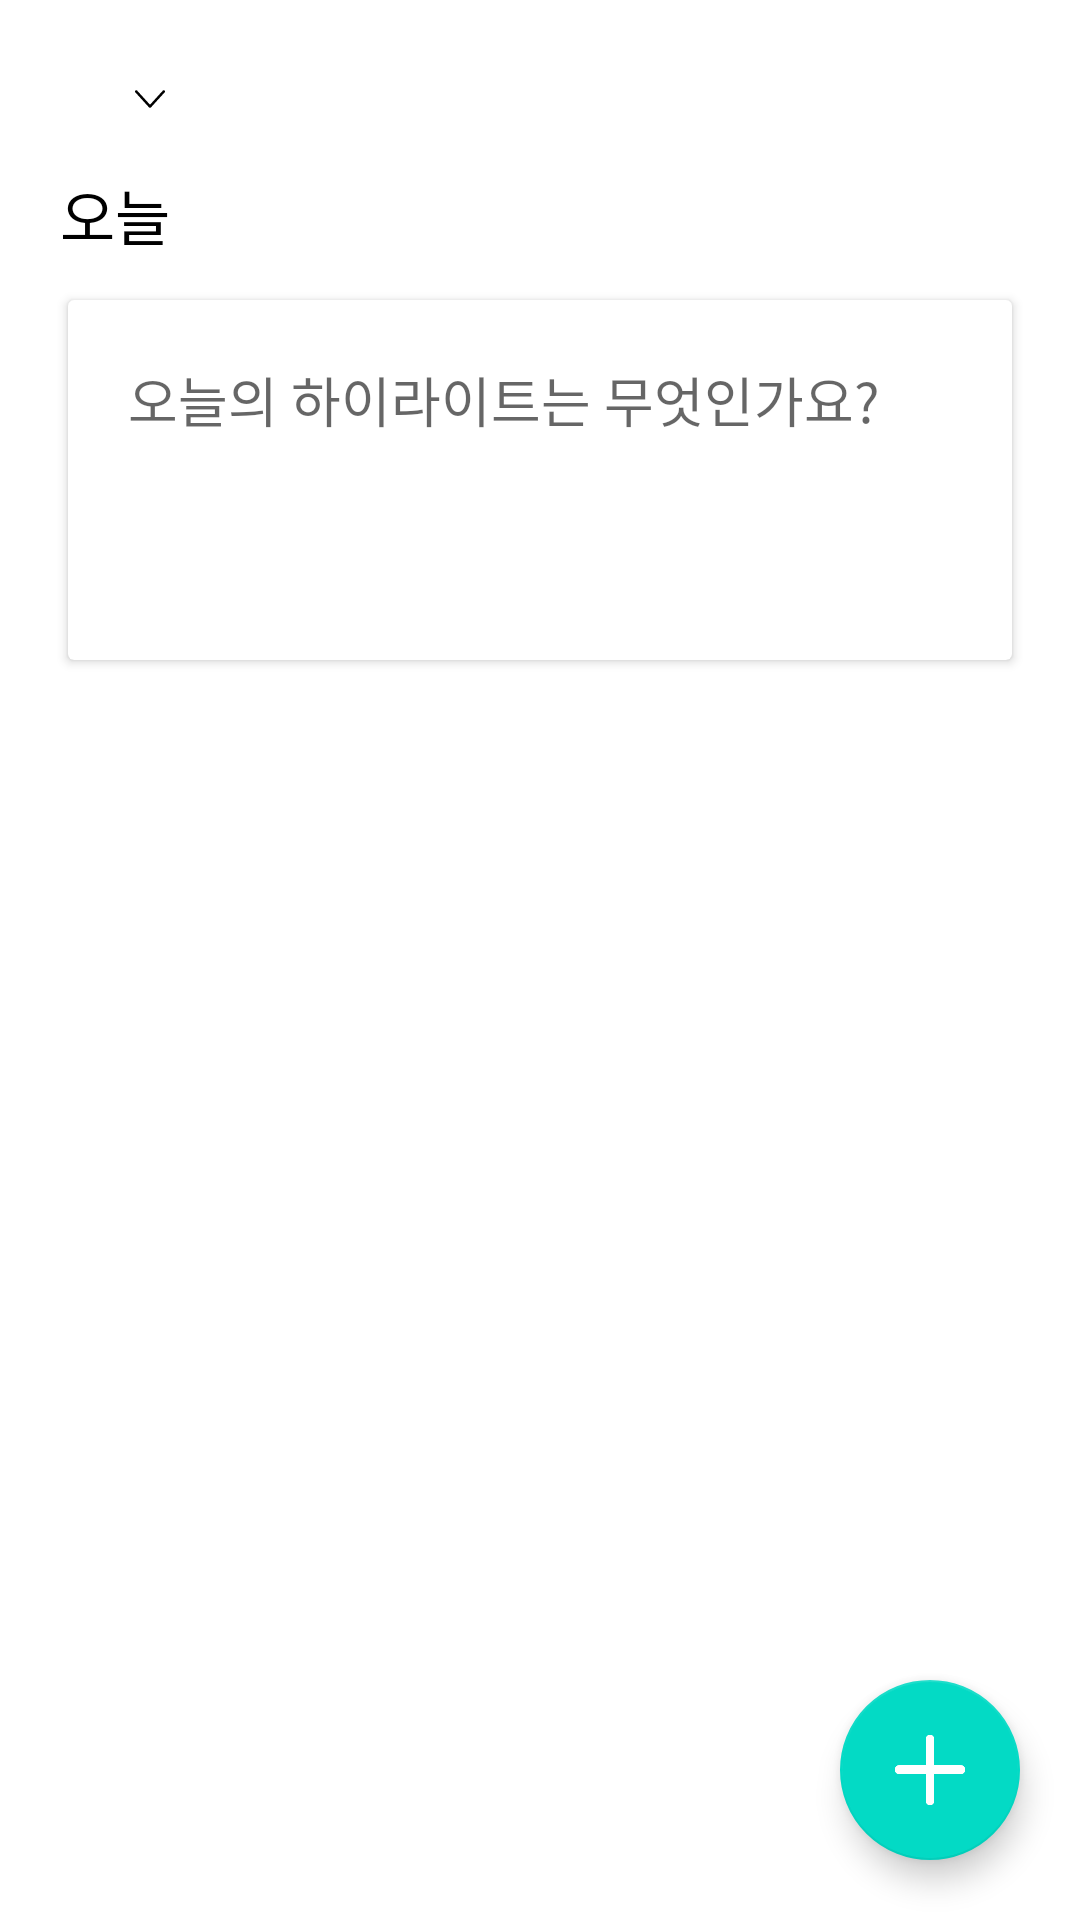

Point at icon controls on the screen. Image size 1080w x 1920h, points as (x=x, y=y).
add: (x=930, y=1770)
down arrow: (x=150, y=99)
